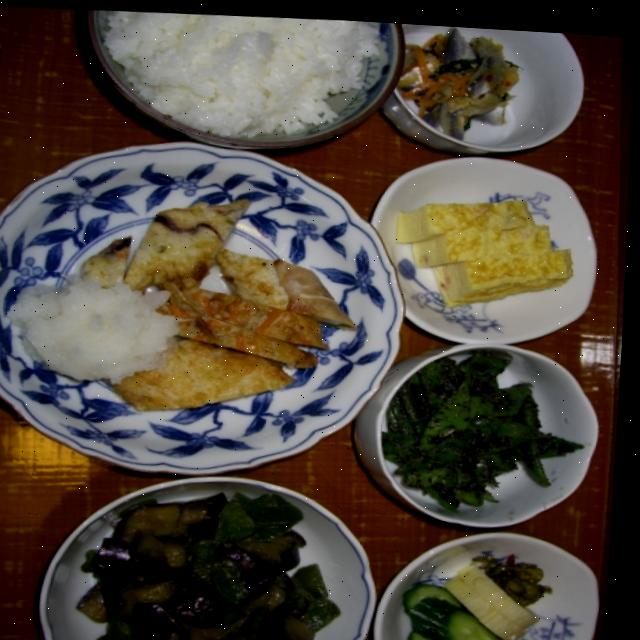鸡蛋料理: (71, 468, 372, 640)
